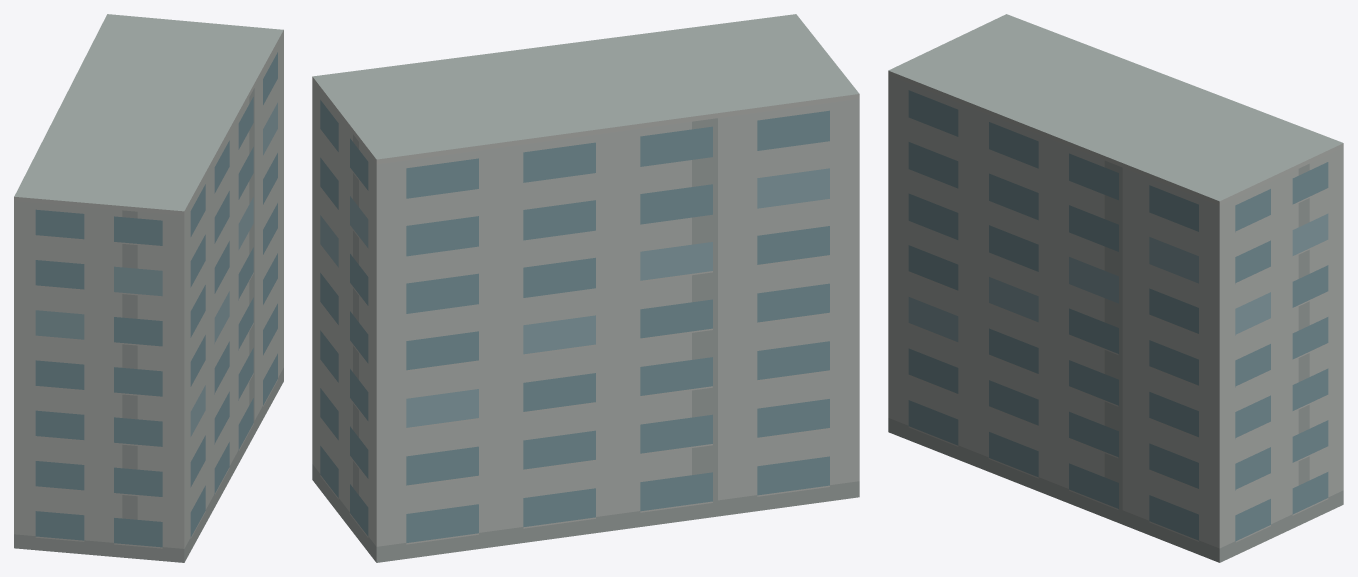
The model's file is survey-upis-32980647.glb.
The picture shows the model from 3 angles, left to right: view 1: azimuth 30°, elevation 25°; view 2: azimuth 150°, elevation 25°; view 3: azimuth 270°, elevation 25°; orthographic projection. The views are drawn at different scales.
Parts seen in each view (by area): view 1: survey-upis-32980647.tmp; view 2: survey-upis-32980647.tmp; view 3: survey-upis-32980647.tmp.
Boxes of the visible parts, x1,y1,x2,y2 form: survey-upis-32980647.tmp: [14, 14, 283, 562]; survey-upis-32980647.tmp: [312, 14, 859, 562]; survey-upis-32980647.tmp: [888, 14, 1343, 562].
Bounding box in the file's own units: 21.79 × 19.6 × 22.39.
